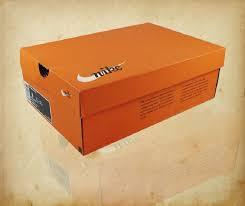box: (20, 21, 227, 156)
